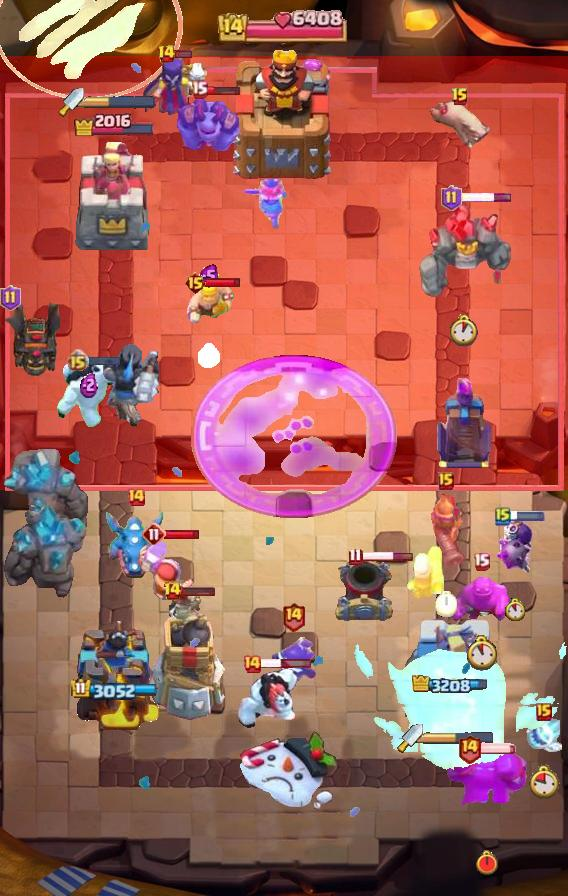archer: (182, 282, 236, 328)
archer-evolution: (0, 295, 60, 379)
axe: (140, 56, 216, 118)
bar: (405, 611, 501, 731), (73, 140, 155, 256)
bat: (526, 713, 562, 753)
bomb-tower: (425, 483, 467, 571)
cannoneer-tower: (415, 201, 513, 303), (2, 448, 92, 550), (0, 505, 88, 603)
clock: (217, 9, 351, 43)
clone: (444, 744, 530, 830)
electro-spirit: (80, 370, 98, 397), (199, 264, 219, 288)
elixir: (465, 635, 500, 671), (448, 314, 480, 347), (529, 765, 560, 799), (475, 850, 499, 876), (435, 591, 457, 617), (198, 343, 220, 368), (505, 599, 525, 622)
elixir-golem-small: (177, 93, 241, 151)
emote: (360, 551, 414, 562), (460, 192, 513, 203), (260, 658, 312, 669), (479, 742, 517, 754), (180, 585, 216, 597), (206, 84, 241, 96), (87, 354, 122, 366), (205, 276, 242, 287), (164, 528, 201, 539), (508, 511, 546, 521), (175, 49, 194, 59)
giant: (427, 98, 493, 152)
goblin-ball: (495, 518, 535, 576)
graveyard: (105, 509, 167, 581)
hog-rider: (241, 177, 289, 231)
ice-spirit-evolution-symbol: (434, 378, 494, 470)
ice-wizard: (1, 0, 184, 100)
inferno-dragon: (102, 341, 162, 431)
king-tower: (229, 43, 339, 181)
king-tower-bar: (84, 95, 156, 109), (423, 731, 495, 745)
knight-evolution: (191, 354, 398, 518)
mega-knight: (354, 628, 568, 774)
mighty-miner: (137, 538, 201, 604)
musketeer: (333, 557, 395, 625)
queen-tower: (66, 617, 162, 731)
rage: (53, 357, 125, 429), (235, 667, 301, 731)
selected: (72, 110, 155, 136), (70, 678, 157, 700), (412, 675, 494, 697)
spear-goblin: (269, 635, 317, 683)
text: (458, 732, 483, 763), (282, 601, 307, 631), (142, 522, 166, 546), (184, 271, 207, 295), (442, 185, 463, 211), (67, 349, 90, 372), (0, 285, 20, 311), (126, 487, 146, 507), (162, 581, 182, 601), (242, 654, 262, 674), (157, 44, 176, 64), (451, 87, 469, 107), (192, 80, 209, 99), (495, 506, 511, 526), (474, 553, 491, 571), (438, 472, 454, 490), (536, 703, 552, 721), (349, 547, 364, 566)
tombstone: (404, 543, 446, 601)
tornado: (452, 576, 510, 622)
zappy: (143, 588, 230, 724)
